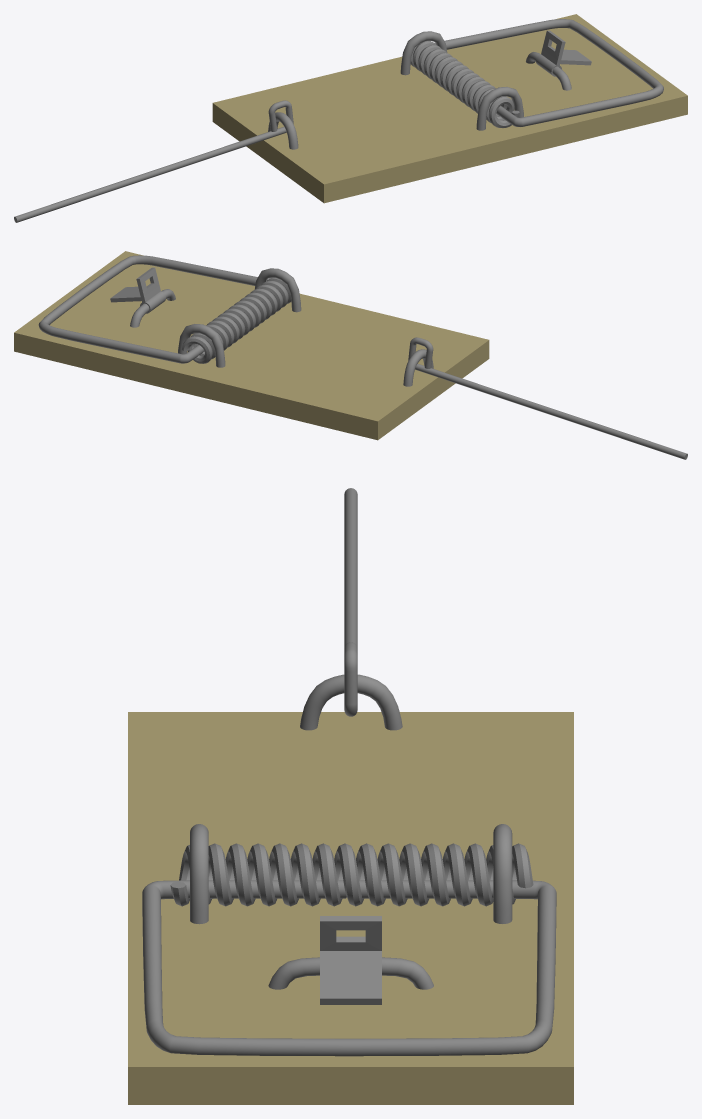
File: MouseTrap_Activated_Idle.fbx
3 views of the same model, one above another, from view 1: azimuth 30°, elevation 25°; view 2: azimuth 150°, elevation 25°; view 3: azimuth 270°, elevation 25° (orthographic). The views are drawn at different scales.
Parts seen in each view (by area): view 1: pCube1, pTorus4, pHelix1, pCylinder1, pCube3, pTorus1, pTorus2, pTorus3, pTorus5; view 2: pCube1, pTorus4, pHelix1, pCylinder1, pCube3, pTorus2, pTorus1, pTorus3, pTorus5; view 3: pCube1, pHelix1, pTorus4, pCube3, pCylinder1, pTorus3, pTorus5, pTorus2, pTorus1.
Boxes of the visible parts, x1=… form: pCube1: x1=212, y1=14, x2=687, y2=203; pTorus4: x1=434, y1=19, x2=663, y2=126; pHelix1: x1=410, y1=40, x2=519, y2=128; pCylinder1: x1=14, y1=100, x2=293, y2=222; pCube3: x1=536, y1=30, x2=591, y2=76; pTorus1: x1=476, y1=87, x2=523, y2=130; pTorus2: x1=400, y1=31, x2=447, y2=75; pTorus3: x1=268, y1=112, x2=298, y2=149; pTorus5: x1=526, y1=52, x2=571, y2=90; pCube1: x1=14, y1=251, x2=489, y2=440; pTorus4: x1=38, y1=255, x2=267, y2=363; pHelix1: x1=182, y1=277, x2=291, y2=363; pCylinder1: x1=408, y1=337, x2=687, y2=459; pCube3: x1=110, y1=267, x2=165, y2=313; pTorus2: x1=178, y1=324, x2=225, y2=367; pTorus1: x1=254, y1=268, x2=301, y2=312; pTorus3: x1=403, y1=349, x2=433, y2=386; pTorus5: x1=130, y1=289, x2=175, y2=327; pCube1: x1=128, y1=712, x2=573, y2=1104; pHelix1: x1=170, y1=843, x2=533, y2=906; pTorus4: x1=142, y1=880, x2=556, y2=1056; pCube3: x1=320, y1=916, x2=381, y2=1004; pCylinder1: x1=344, y1=488, x2=357, y2=716; pTorus3: x1=300, y1=674, x2=402, y2=730; pTorus5: x1=268, y1=957, x2=433, y2=989; pTorus2: x1=493, y1=824, x2=512, y2=923; pTorus1: x1=190, y1=824, x2=208, y2=924.
Bounding box in the file's own units: 5.84 × 0.5232 × 1.83.
